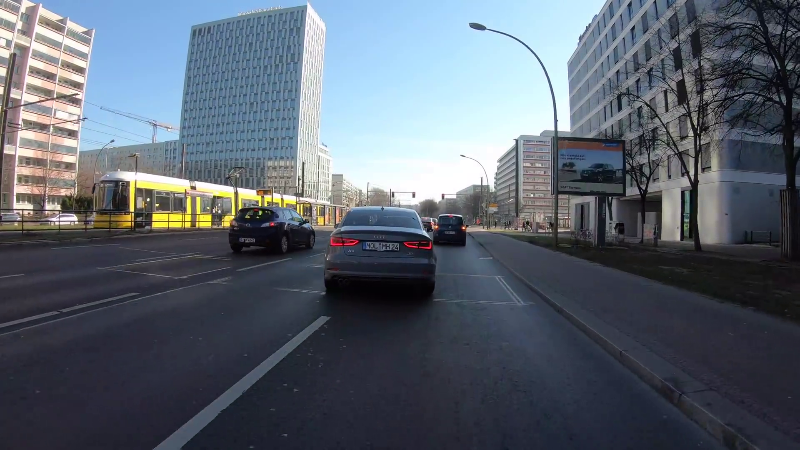Plate: (360, 239, 402, 254), (236, 234, 256, 243), (441, 229, 455, 236)
